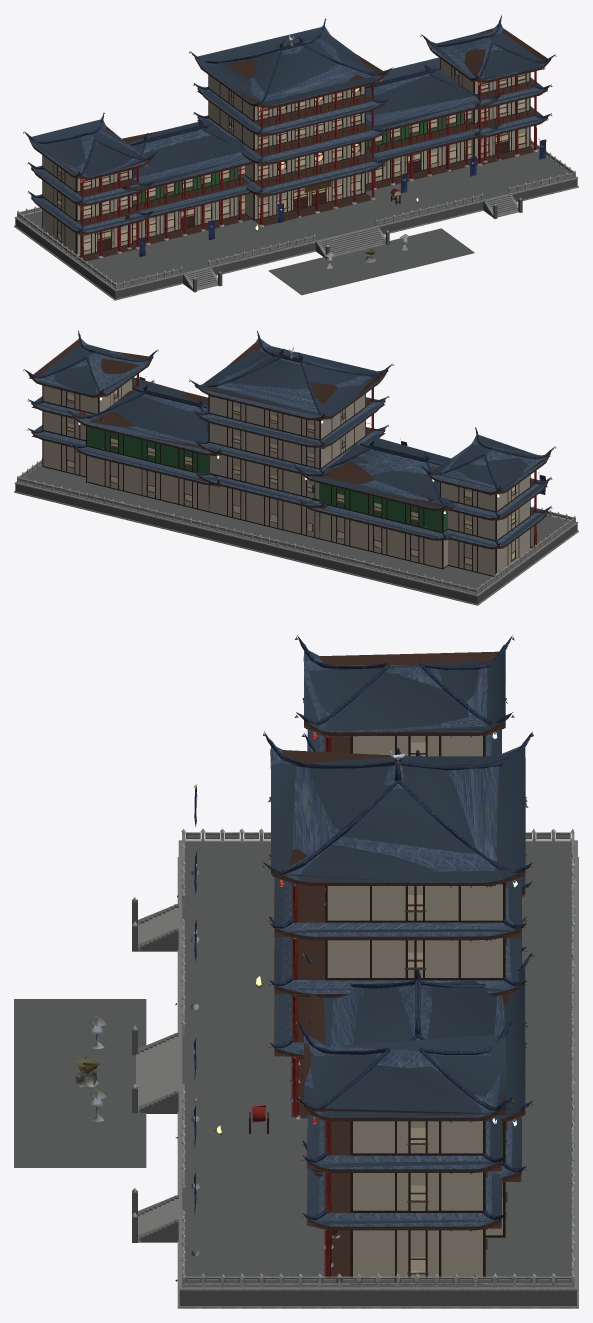
The model's file is prop_clan_main_hall.gltf.
3 views of the same model, one above another, from view 1: azimuth 30°, elevation 25°; view 2: azimuth 150°, elevation 25°; view 3: azimuth 270°, elevation 25° (orthographic). The views are drawn at different scales.
Parts seen in each view (by area): view 1: Far, Near; view 2: Far, Near; view 3: Far, Near.
Part boxes in pixels (<box>): Far: <box>14,23,578,299</box>; Near: <box>14,15,578,300</box>; Far: <box>14,338,578,604</box>; Near: <box>14,330,578,605</box>; Far: <box>14,650,578,1306</box>; Near: <box>74,635,578,1308</box>.
Size of the model in its own units: 83 by 28.23 by 42.65.
Materials: 26 (17 with a texture image).
